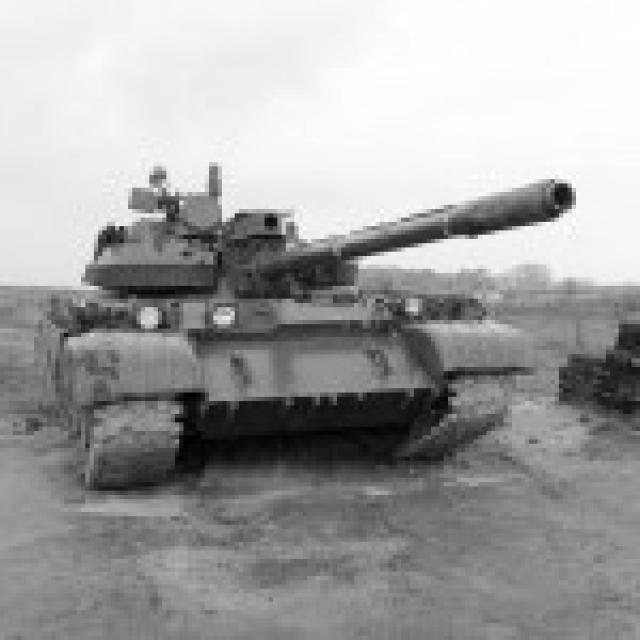Tank: (37, 148, 597, 482)
